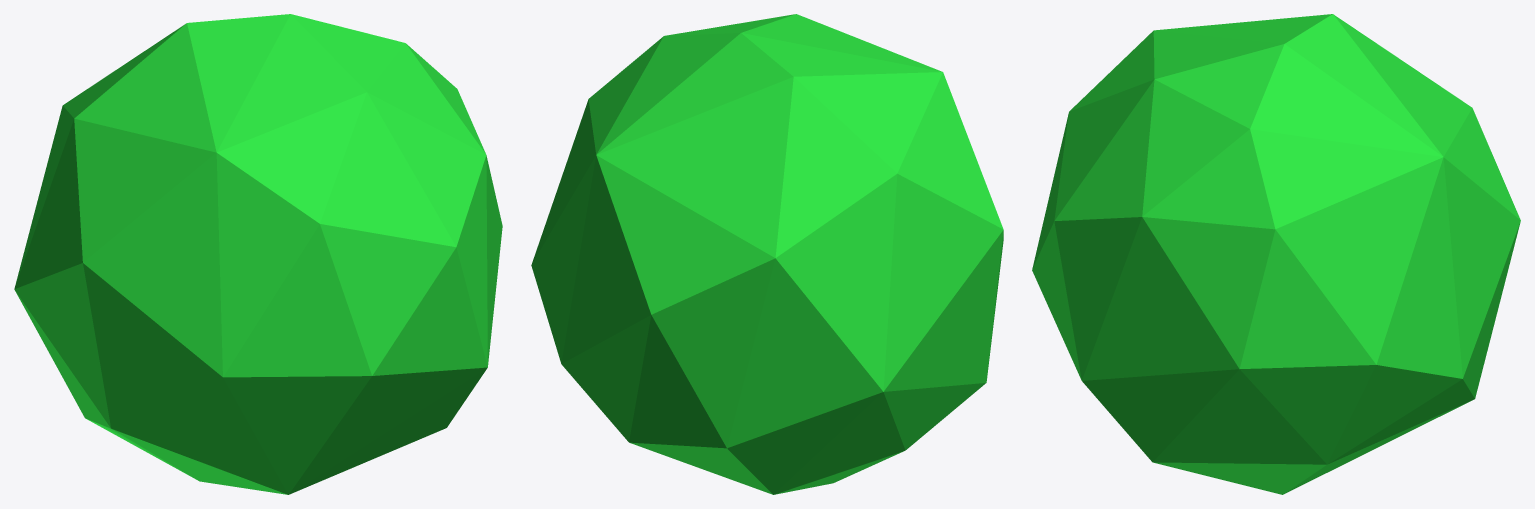
The model's file is pear.glb.
3 renders of one model, left to right at view 1: azimuth 30°, elevation 25°; view 2: azimuth 150°, elevation 25°; view 3: azimuth 270°, elevation 25°, orthographic. The views are drawn at different scales.
Visible parts, largest first — view 1: Sphere; view 2: Sphere; view 3: Sphere.
Part boxes in pixels (bbox=[...]): Sphere: bbox=[14, 14, 502, 494]; Sphere: bbox=[531, 14, 1003, 494]; Sphere: bbox=[1032, 14, 1520, 494].
Bounding box in the file's own units: 2.02 × 2.01 × 2.05.
